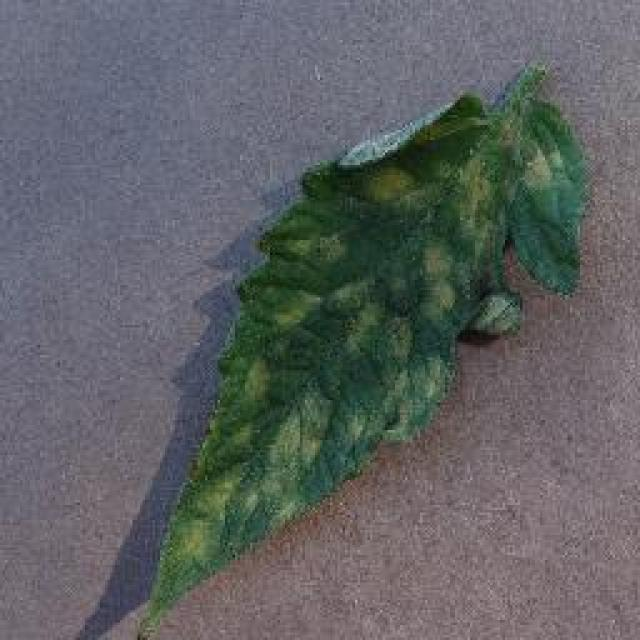Tomato___Leaf_Mold: (142, 68, 585, 628)
